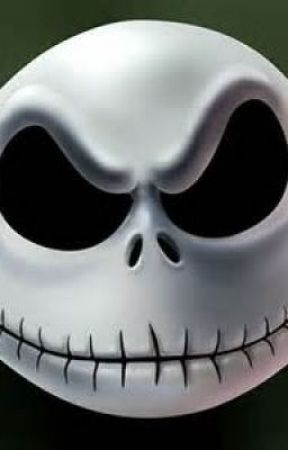Jack Skellington: (1, 19, 288, 419)
